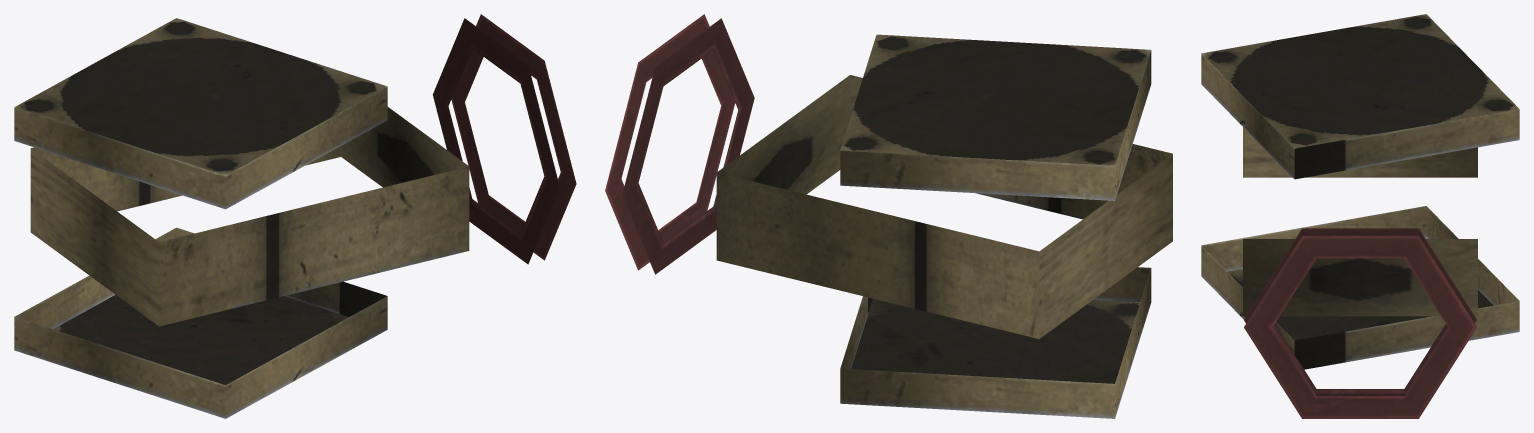
The model's file is ny_harbor_sub_pipe_valve_01_lod2.glb.
3 renders of one model, left to right at view 1: azimuth 30°, elevation 25°; view 2: azimuth 150°, elevation 25°; view 3: azimuth 270°, elevation 25°, orthographic. The views are drawn at different scales.
Visible parts, largest first — view 1: surf0; view 2: surf0; view 3: surf0.
Part boxes in pixels (<box>): surf0: <box>14,14,576,418</box>; surf0: <box>605,14,1172,418</box>; surf0: <box>1201,14,1519,418</box>.
Bounding box in the file's own units: 16.74 × 8.41 × 10.91.
